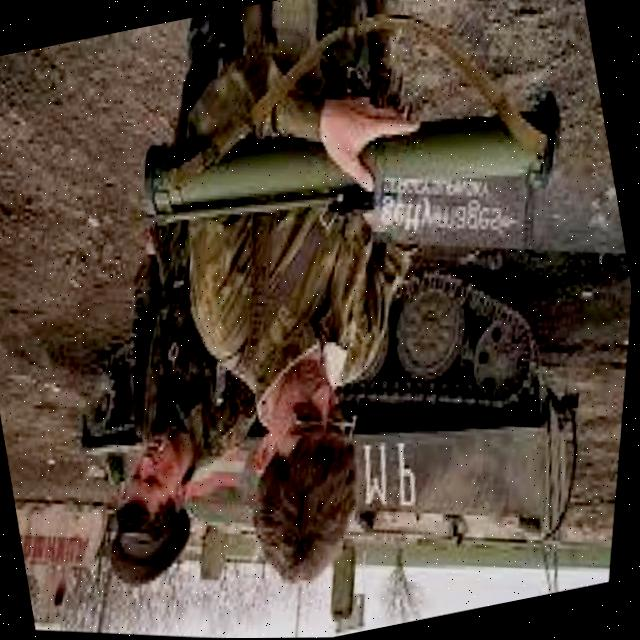rocket: (114, 1, 593, 325)
